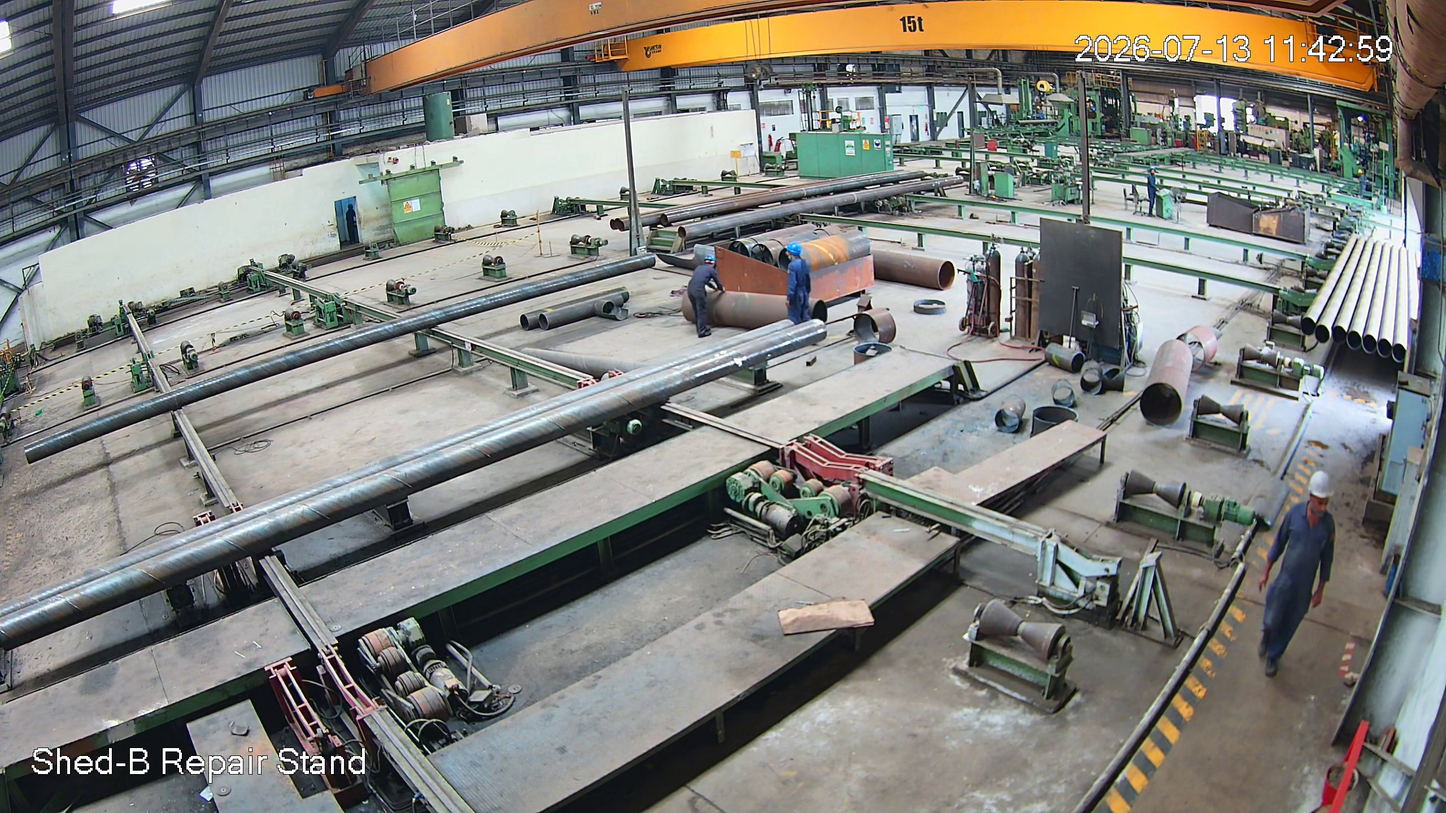Helmet: (1300, 468, 1339, 522), (785, 240, 807, 263), (703, 251, 720, 271)
Person: (1247, 473, 1344, 688), (686, 254, 719, 338), (783, 244, 812, 322)
